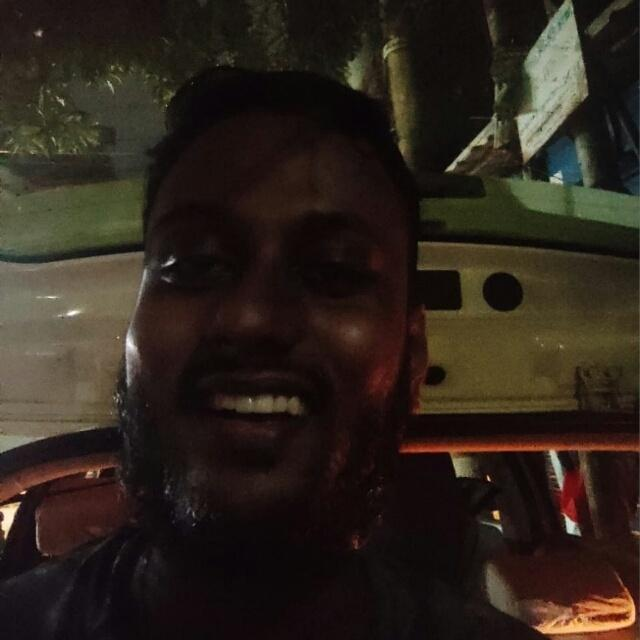happy: (131, 91, 433, 546)
